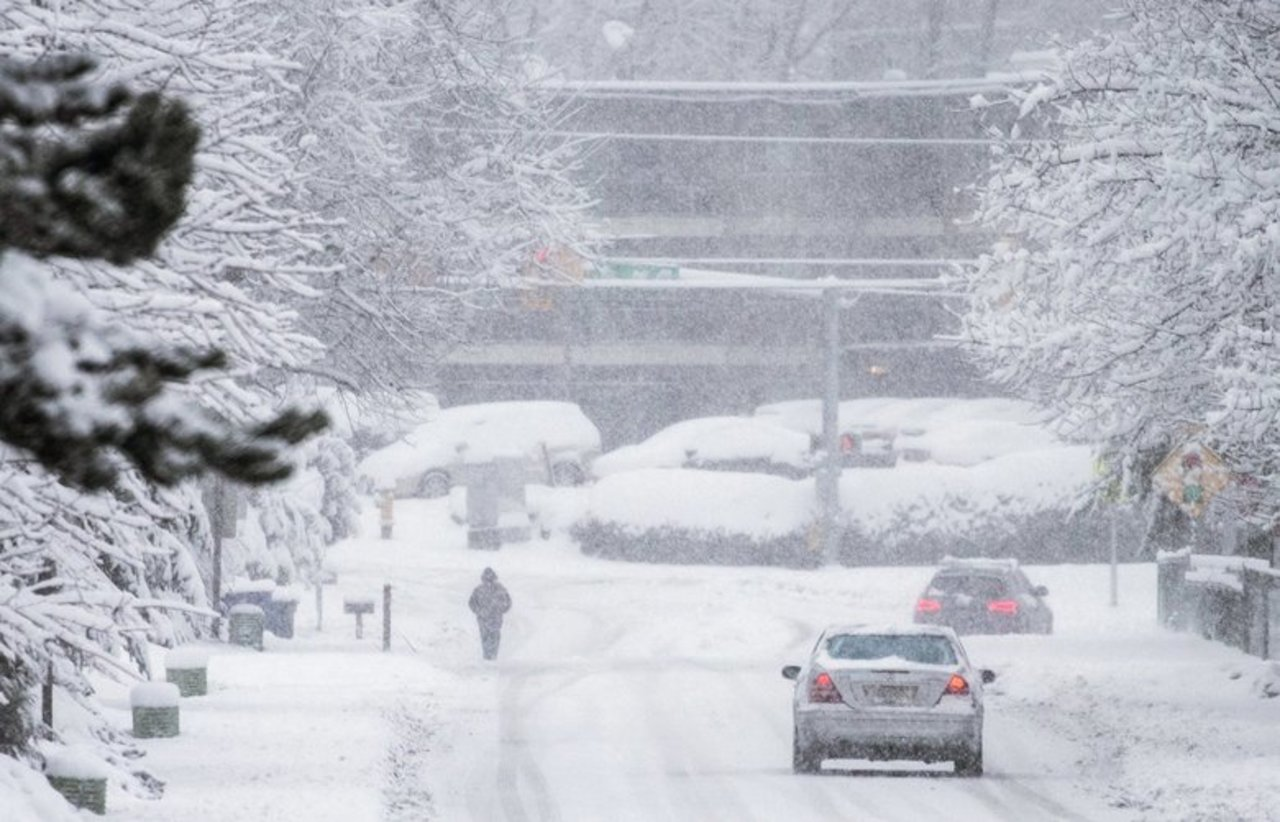car: (785, 620, 992, 778), (358, 399, 604, 504), (595, 417, 819, 482), (912, 559, 1052, 641), (897, 411, 1054, 469), (848, 402, 932, 463)
person: (469, 565, 511, 661)
